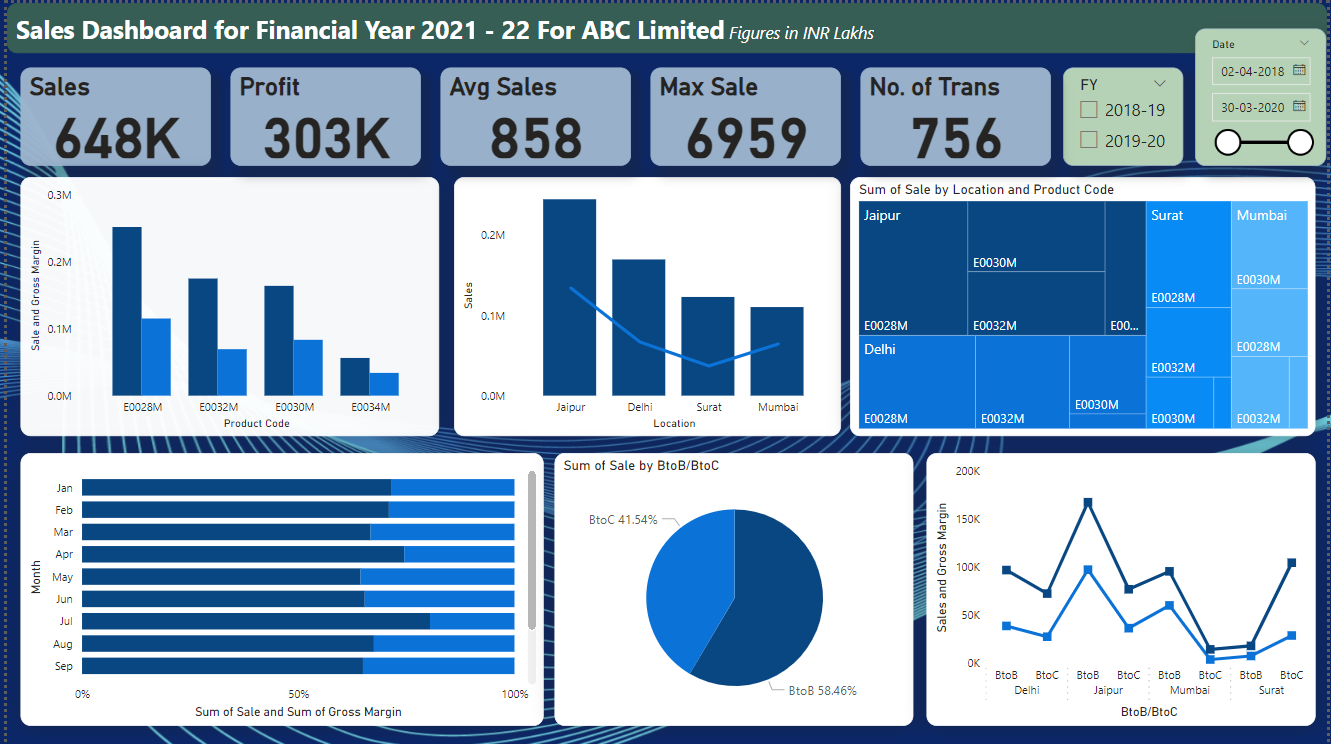

The dashboard page shown, as its layout file describes it:
{"tool":"powerbi","page":{"name":"Sales Dashboard","canvas":[1280,720],"ordinal":0},"visuals":[{"type":"textbox","box":[0,0,1279.8,48.5],"z":0},{"type":"card","title":"Sales","fields":{"Values":["Sum(Data.Sale)"]},"box":[13.6,62.1,184.7,95.4],"z":1000},{"type":"clusteredColumnChart","fields":{"Category":["Data.Product Code"],"Y":["Sum(Data.Sale)","Sum(Data.Gross Margin)"]},"box":[13.6,168.1,405.8,251.4],"z":2000},{"type":"lineClusteredColumnComboChart","fields":{"Y":["Sum(Data.Sale)"],"Category":["Data.Location"],"Y2":["Sum(Data.Gross Margin)"]},"box":[433.1,168.1,375.5,251.4],"z":3000},{"type":"treemap","fields":{"Group":["Data.Location"],"Details":["Data.Product Code"],"Values":["Sum(Data.Sale)"]},"box":[817.7,168.1,451.2,251.4],"z":4000},{"type":"hundredPercentStackedBarChart","fields":{"Y":["Sum(Data.Sale)","Sum(Data.Gross Margin)"],"Category":["Data.Month"]},"box":[13.6,436.1,507.3,265],"z":5000},{"type":"pieChart","fields":{"Y":["Sum(Data.Sale)"],"Category":["Data.BtoB/BtoC"]},"box":[531.5,436.1,348.3,265],"z":6000},{"type":"lineChart","fields":{"Category":["Data.Location","Data.BtoB/BtoC"],"Y":["Sum(Data.Sale)","Sum(Data.Gross Margin)"]},"box":[891.9,436.1,377,265],"z":7000},{"type":"slicer","fields":{"Values":["Data.FY"]},"box":[1023.6,62.1,116.6,95.4],"z":8000},{"type":"slicer","fields":{"Values":["Data.Date"]},"box":[1152.3,24.2,127.2,133.3],"z":9000},{"type":"card","title":"Profit","fields":{"Values":["Sum(Data.Gross Margin)"]},"box":[216.5,62.1,184.7,95.4],"z":10000},{"type":"card","title":"No. of Trans","fields":{"Values":["CountNonNull(Data.Sale)"]},"box":[828.3,62.1,184.7,95.4],"z":11000},{"type":"card","title":"Max Sale","fields":{"Values":["Max(Data.Sale)"]},"box":[623.9,62.1,184.7,95.4],"z":12000},{"type":"card","title":"Avg Sales","fields":{"Values":["Avg(Data.Sale)"]},"box":[420.9,62.1,184.7,95.4],"z":13000}]}

Visuals, with their boxes in screenshot pixels (x1, y1, x2, y2), scaled from the page's 1280x720 canvas onto the 1331x744 screenshot:
textbox: (0,0,1330,50)
"Sales" card: (14,64,206,163)
clusteredColumnChart - Data.Product Code x Sum(Data.Sale): (14,174,436,433)
lineClusteredColumnComboChart - Sum(Data.Sale) x Data.Location: (450,174,841,433)
treemap - Data.Location x Data.Product Code: (850,174,1319,433)
hundredPercentStackedBarChart - Sum(Data.Sale) x Sum(Data.Gross Margin): (14,451,542,724)
pieChart - Sum(Data.Sale) x Data.BtoB/BtoC: (553,451,915,724)
lineChart - Data.Location x Data.BtoB/BtoC: (927,451,1319,724)
slicer - Data.FY: (1064,64,1186,163)
slicer - Data.Date: (1198,25,1330,163)
"Profit" card: (225,64,417,163)
"No. of Trans" card: (861,64,1053,163)
"Max Sale" card: (649,64,841,163)
"Avg Sales" card: (438,64,630,163)
